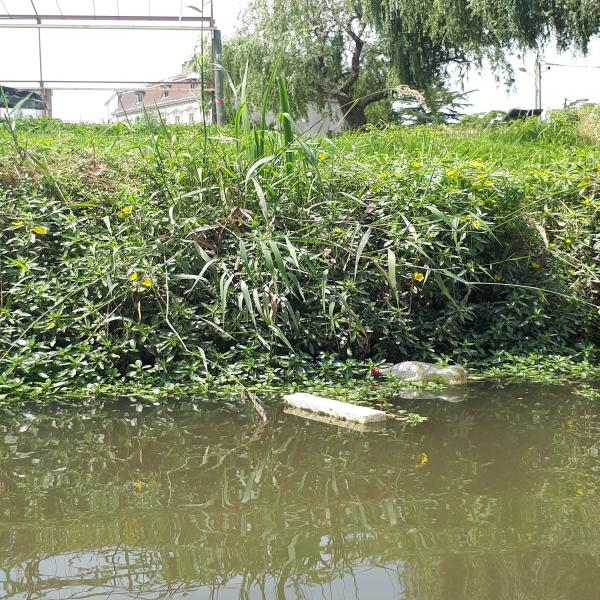bottles: (369, 356, 473, 390)
others: (276, 388, 389, 430)
